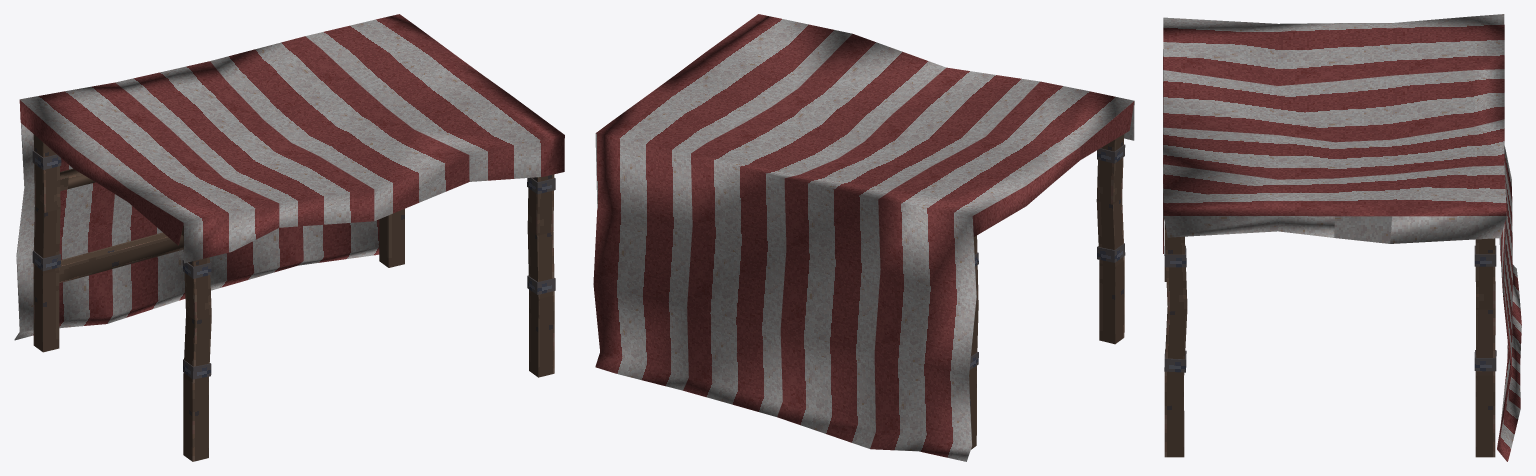
File: market_stall_red.glb
The picture shows the model from 3 angles, left to right: view 1: azimuth 30°, elevation 25°; view 2: azimuth 150°, elevation 25°; view 3: azimuth 270°, elevation 25°; orthographic projection. The views are drawn at different scales.
Parts seen in each view (by area): view 1: market_stall_red; view 2: market_stall_red; view 3: market_stall_red.
Boxes of the visible parts, bbox=[...] form: market_stall_red: bbox=[14, 14, 564, 461]; market_stall_red: bbox=[593, 14, 1134, 461]; market_stall_red: bbox=[1163, 14, 1521, 461].
Size of the model in its own units: 5.53 by 3.51 by 4.33.
Materials: 2 (2 with a texture image).
